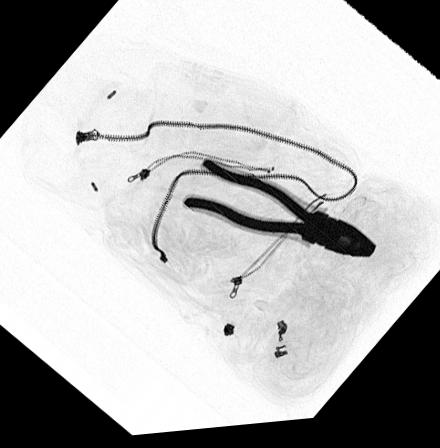Pliers: (181, 159, 380, 267)
